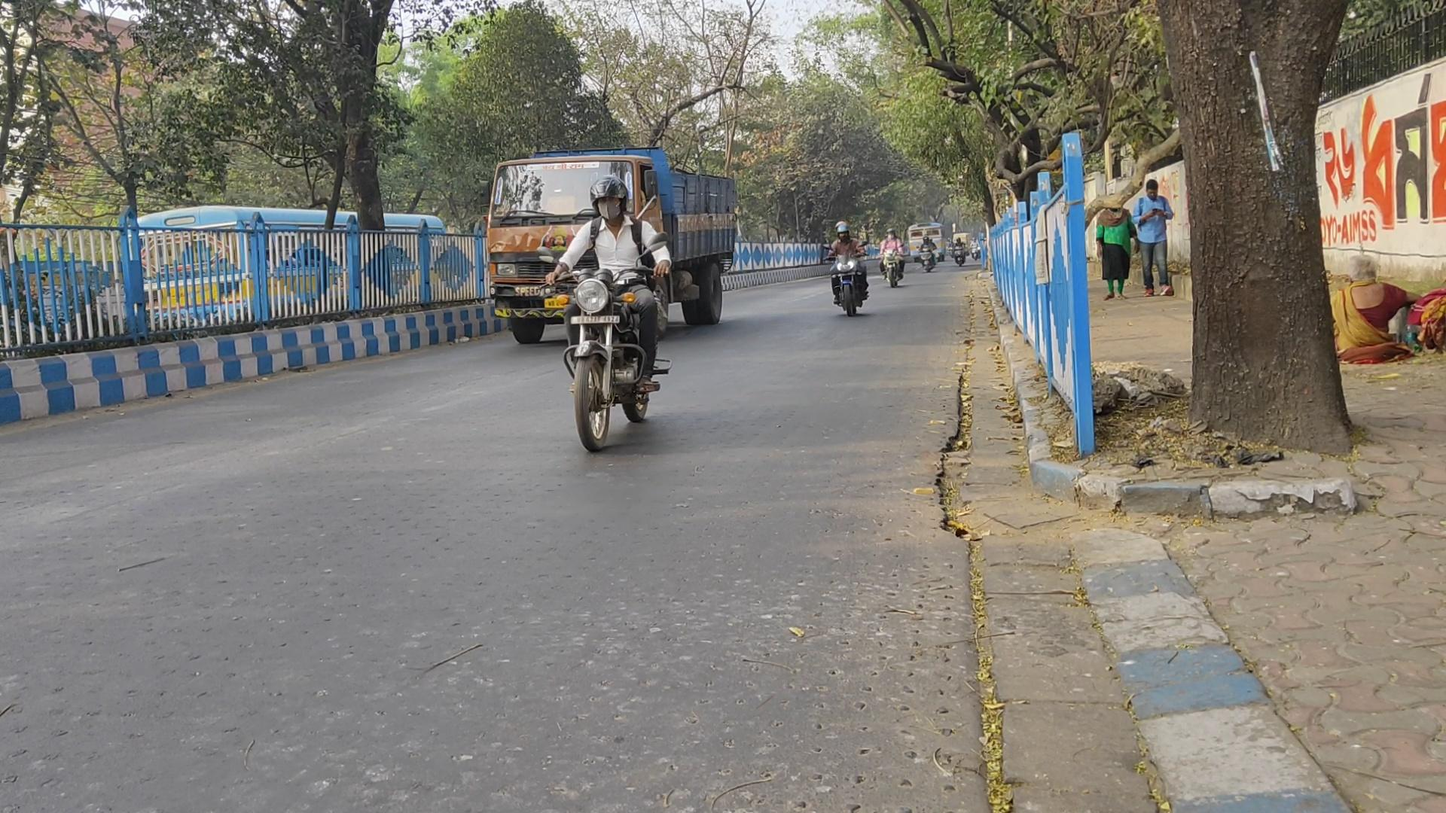Bus: (905, 221, 947, 263)
bike: (545, 174, 673, 453), (825, 221, 871, 317), (882, 230, 908, 291), (917, 233, 939, 274), (952, 237, 968, 267)
truck: (487, 148, 738, 344)
